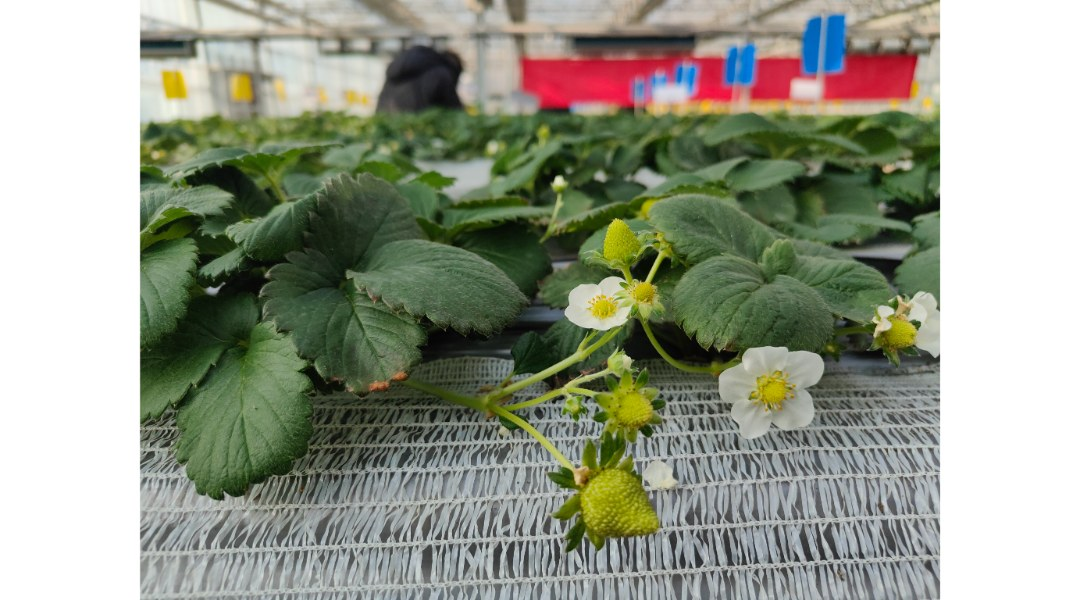berry: (563, 451, 674, 550), (596, 370, 674, 437), (595, 210, 641, 272)
flower: (706, 340, 836, 437), (868, 288, 977, 362), (553, 271, 642, 335)
strain: (517, 424, 575, 485), (511, 353, 575, 393), (407, 377, 469, 409)
